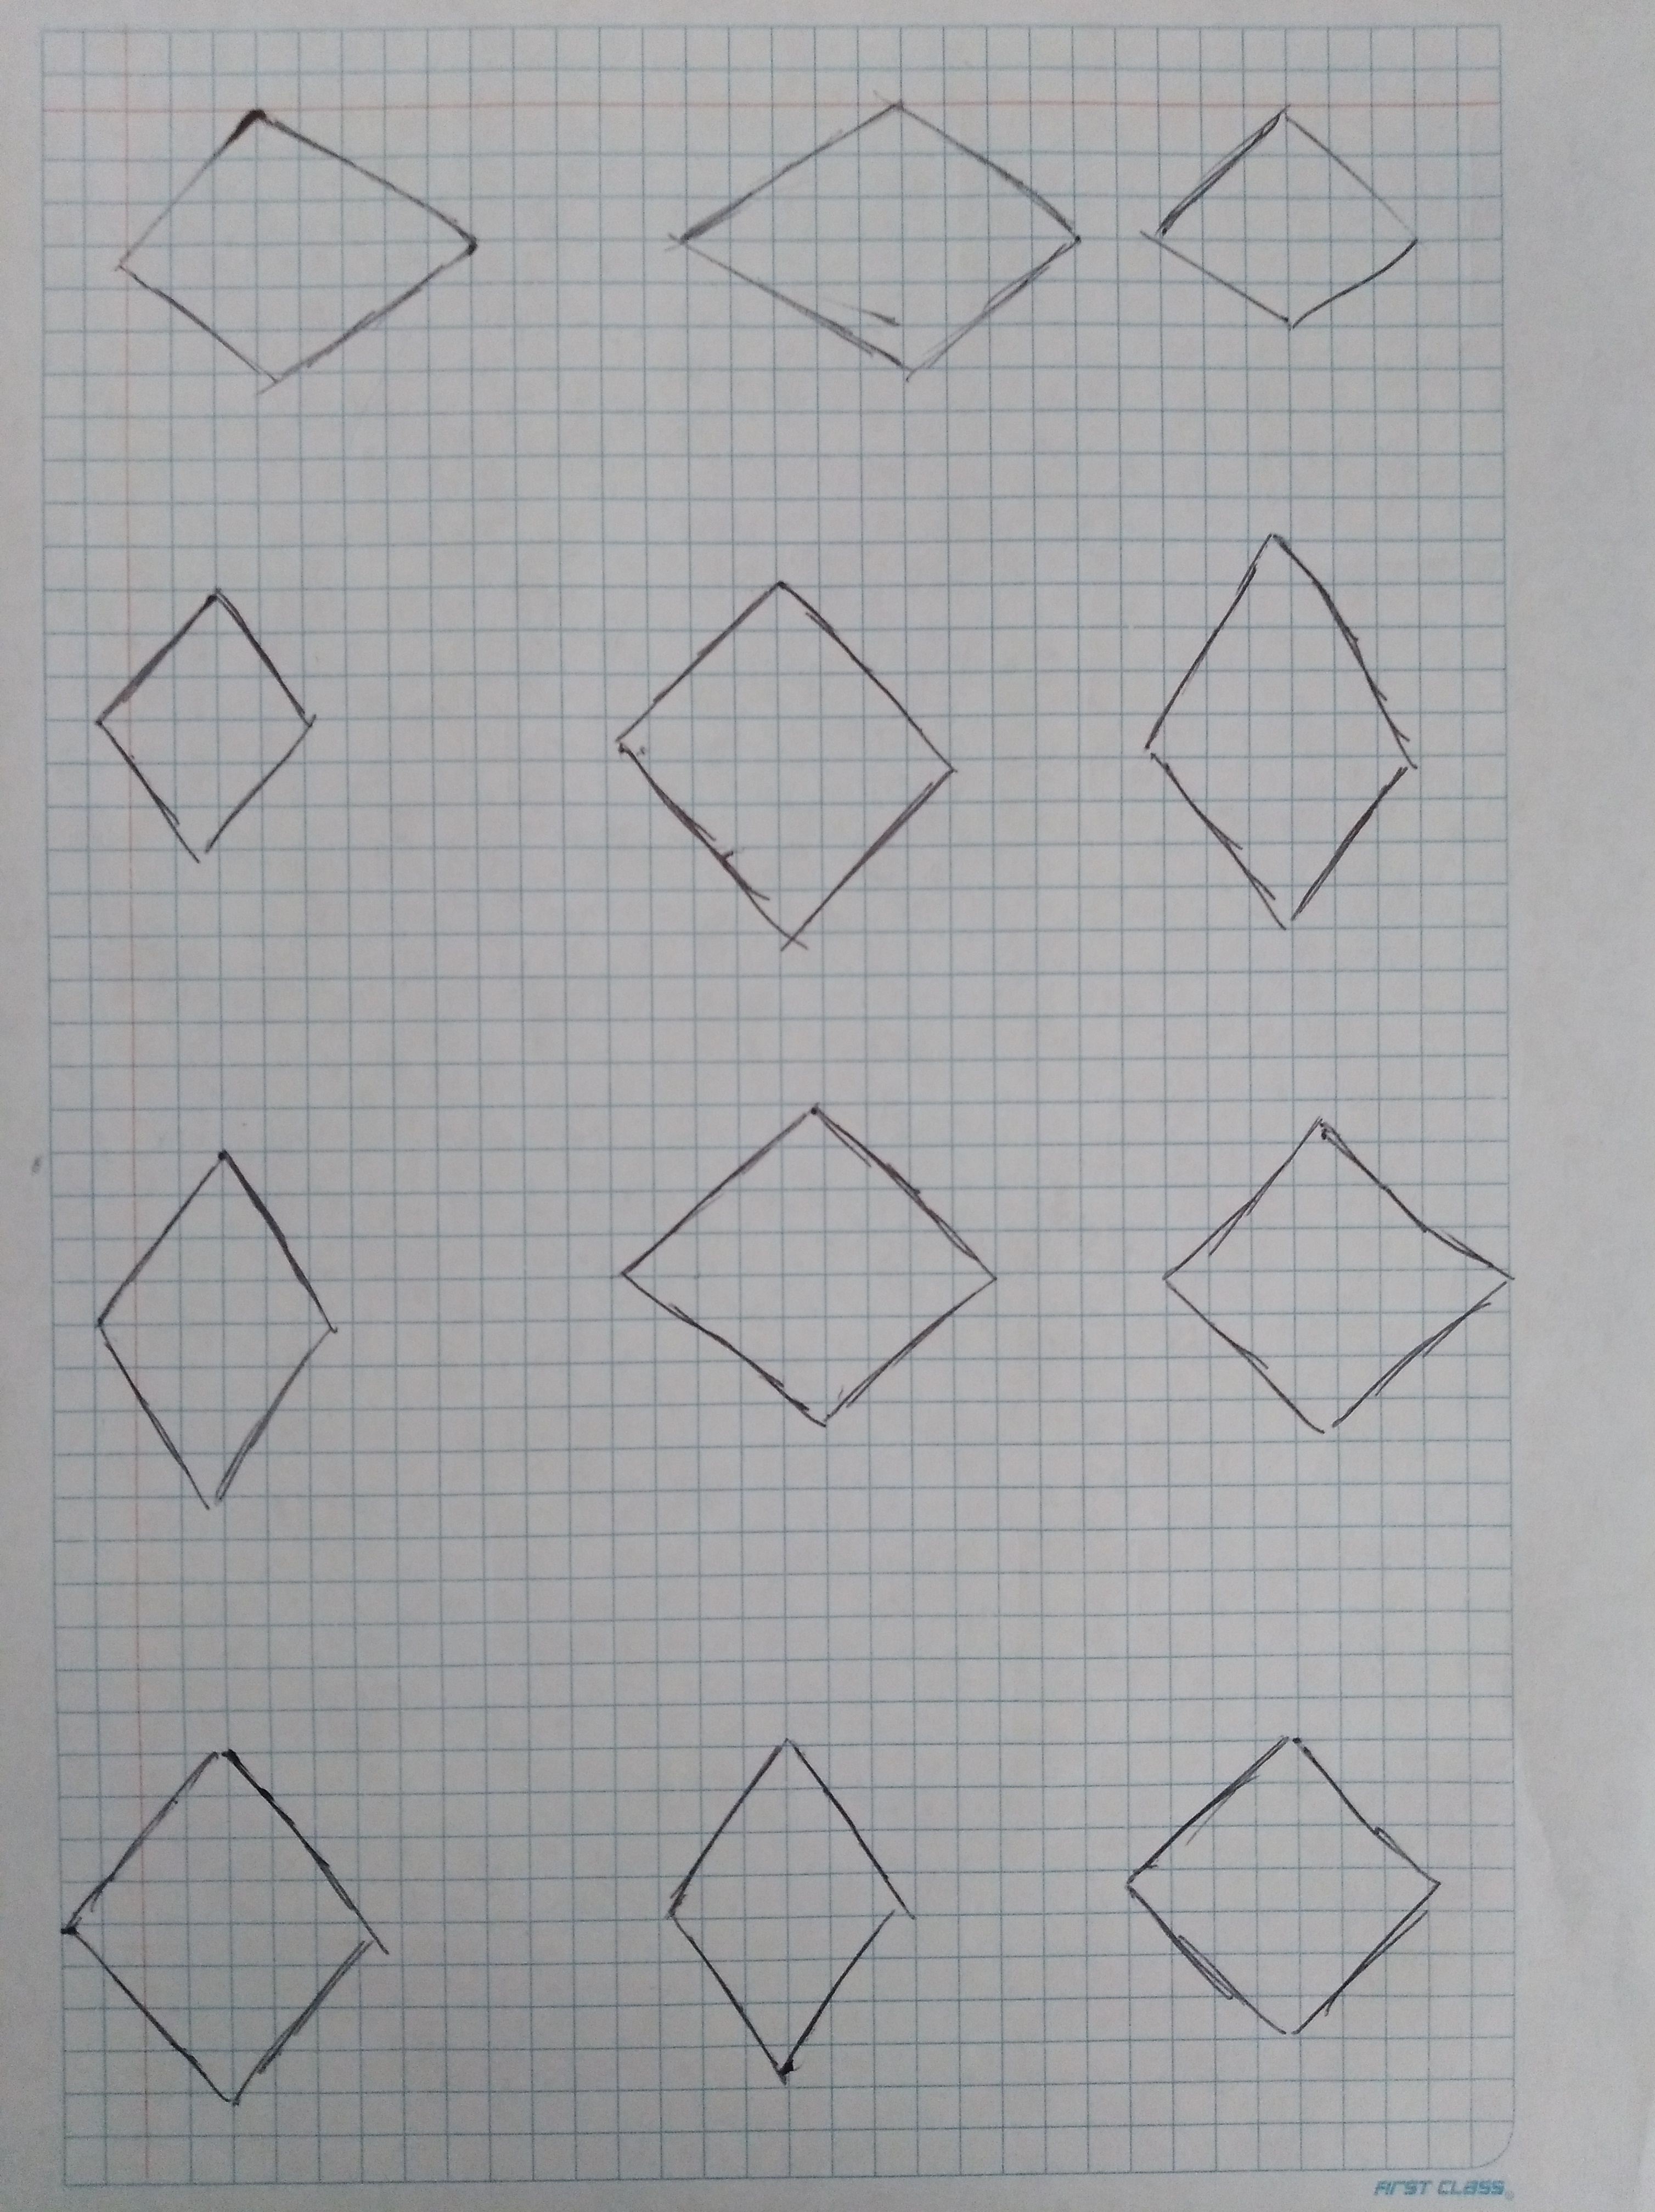decision: (579, 537, 1003, 982), (574, 1067, 1043, 1458), (30, 1725, 450, 2127), (1113, 497, 1452, 977), (648, 57, 1100, 412), (1078, 1684, 1497, 2061), (1142, 1074, 1537, 1467), (605, 1701, 951, 2108), (82, 83, 516, 407), (63, 1128, 393, 1548), (45, 565, 386, 886), (1125, 57, 1450, 386)
